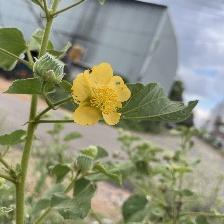indian mallow: (72, 64, 133, 129)
